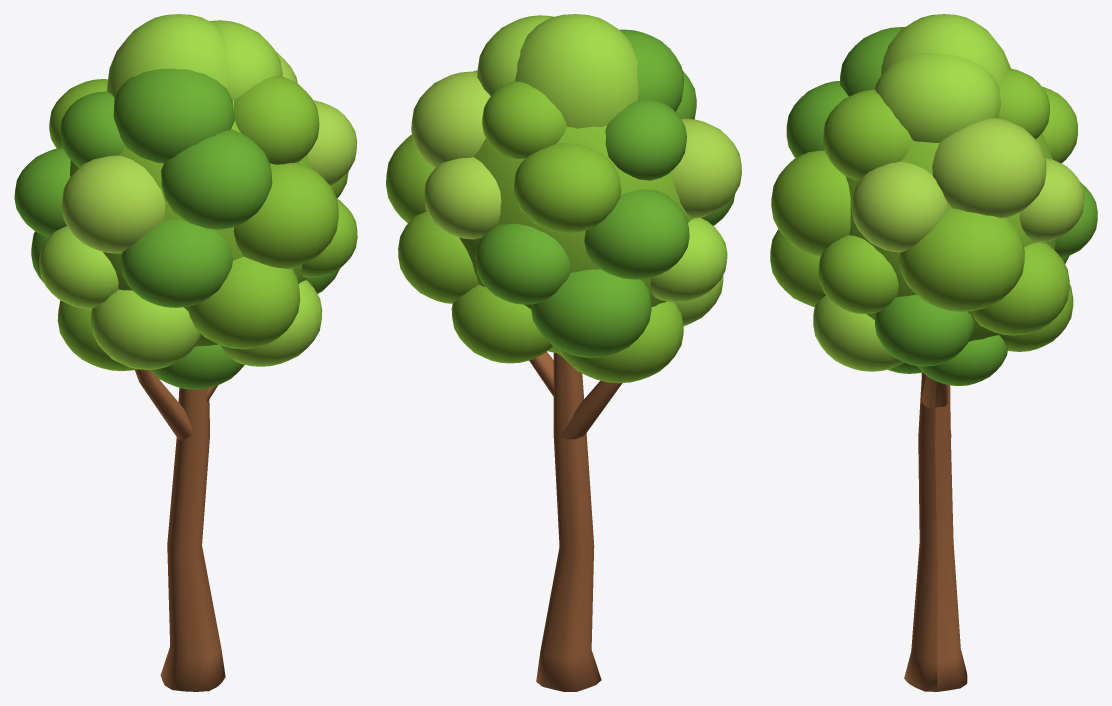
The model's file is arbol-copa-pequena.glb.
3 renders of one model, left to right at view 1: azimuth 30°, elevation 25°; view 2: azimuth 150°, elevation 25°; view 3: azimuth 270°, elevation 25°, orthographic.
Parts seen in each view (by area): view 1: Hojas_verde_pradera, Hojas_verde_manzana, Hojas_verde_lima, Madera_canela, Hojas_verde_claro; view 2: Hojas_verde_manzana, Hojas_verde_pradera, Hojas_verde_lima, Hojas_verde_claro, Madera_canela; view 3: Hojas_verde_manzana, Hojas_verde_claro, Hojas_verde_lima, Hojas_verde_pradera, Madera_canela.
Part boxes in pixels (x1,y1,x2,y2): Hojas_verde_pradera: (14, 68, 339, 389); Hojas_verde_manzana: (49, 75, 357, 370); Hojas_verde_lima: (39, 14, 322, 369); Madera_canela: (135, 369, 225, 691); Hojas_verde_claro: (61, 51, 357, 253); Hojas_verde_manzana: (386, 81, 701, 383); Hojas_verde_pradera: (475, 29, 734, 357); Hojas_verde_lima: (477, 14, 727, 326); Hojas_verde_claro: (411, 70, 741, 239); Madera_canela: (529, 352, 622, 691); Hojas_verde_manzana: (770, 68, 1077, 351); Hojas_verde_claro: (851, 118, 1084, 252); Hojas_verde_lima: (813, 14, 1010, 371); Hojas_verde_pradera: (786, 27, 1097, 385); Madera_canela: (904, 372, 967, 691).
Size of the model in its own units: 1.57 by 3.19 by 1.45.
